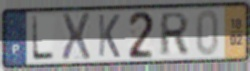0: (194, 8, 221, 58)
2: (127, 10, 156, 61)
K: (97, 13, 122, 60)
L: (30, 14, 56, 62)
R: (158, 11, 191, 58)
X: (60, 11, 92, 63)
